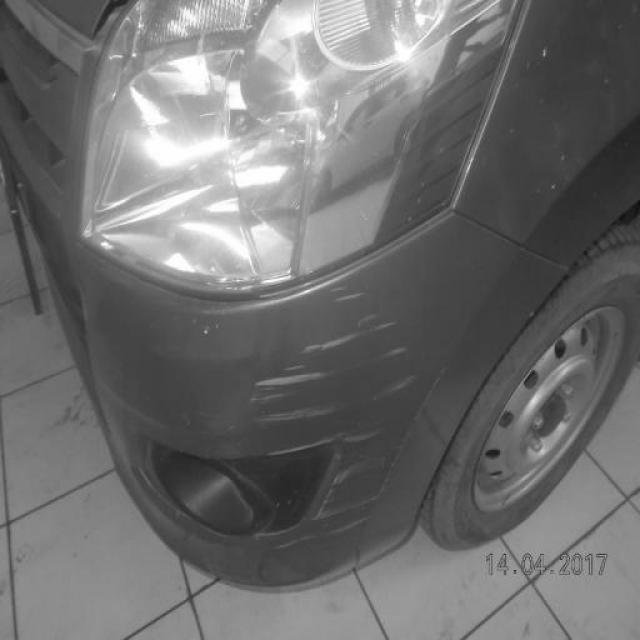scratch: (256, 365, 446, 549), (246, 282, 421, 419)
